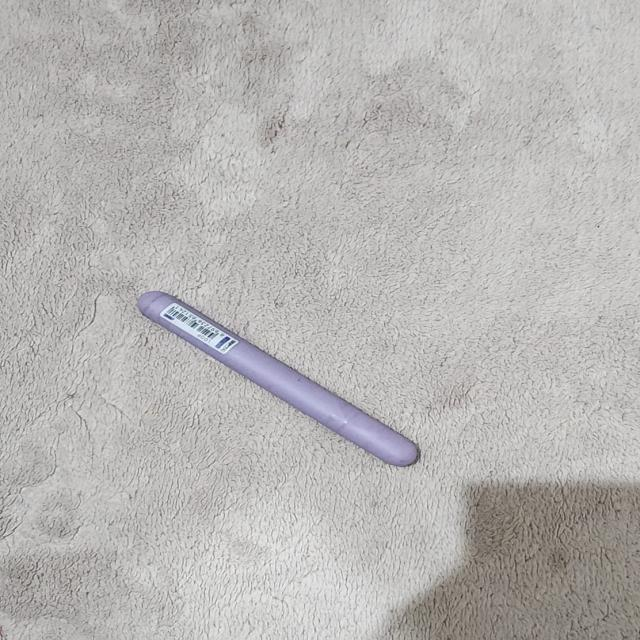kalem2: (138, 290, 418, 467)
